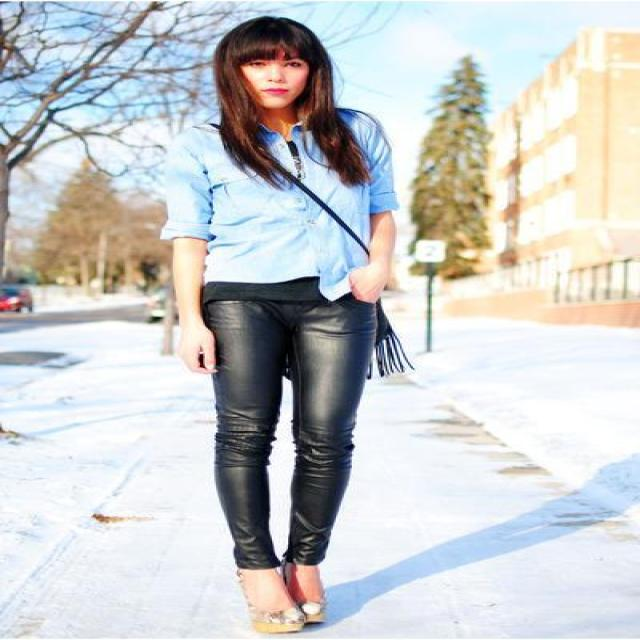bag: (261, 166, 413, 384)
pants: (200, 276, 392, 569)
shirt: (150, 111, 397, 300)
shoe: (253, 586, 325, 639)
